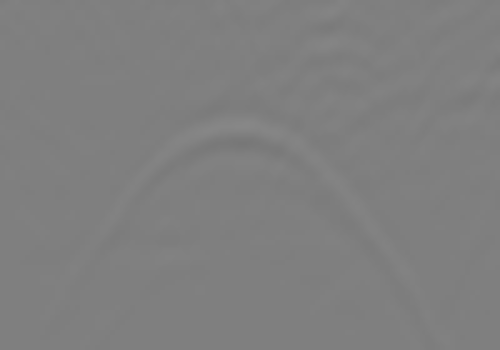hyperbola: (54, 116, 436, 350)
